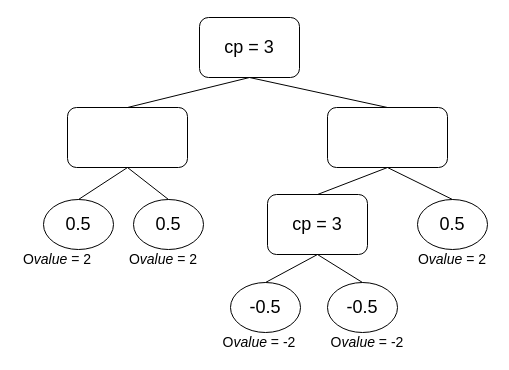
The diagram is 509 pixels wide and 370 high, and some of its shapes have lost their labels. Here are the shapes that lost their labels. From the top down, the centre of each, then its label:
At pixel 127 137: "thalac < 170".
At pixel 387 137: "thalac < 188".
